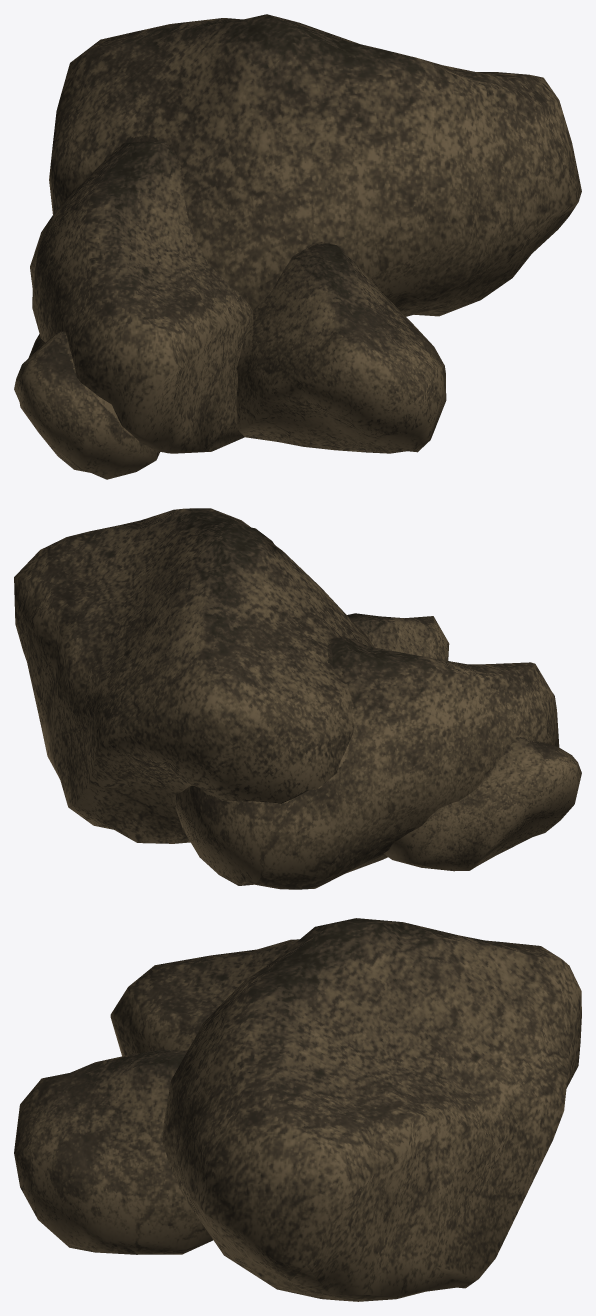
The model's file is mm8_deco_rock53.glb.
The picture shows the model from 3 angles, top to bottom: view 1: azimuth 30°, elevation 25°; view 2: azimuth 150°, elevation 25°; view 3: azimuth 270°, elevation 25°; orthographic projection. The views are drawn at different scales.
Visible parts, largest first — view 1: Rock53; view 2: Rock53; view 3: Rock53.
Boxes of the visible parts, x1=… form: Rock53: x1=14, y1=14, x2=581, y2=479; Rock53: x1=14, y1=508, x2=581, y2=889; Rock53: x1=14, y1=918, x2=581, y2=1301.
Bounding box in the file's own units: 1.54 × 0.8261 × 1.3.
Materials: 1 (1 with a texture image).
